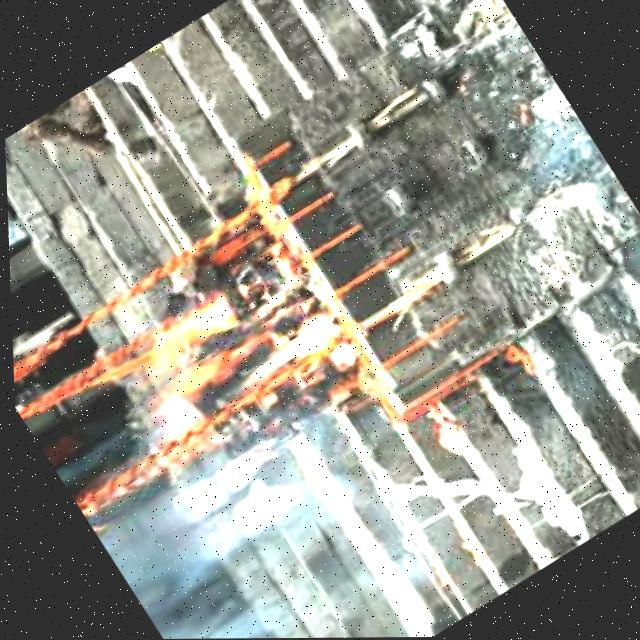Fire: (102, 242, 346, 444)
